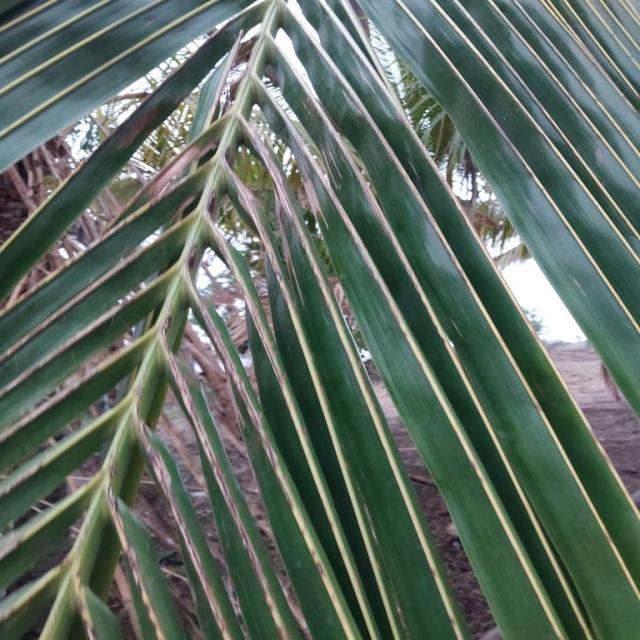gray leaf spot: (99, 24, 318, 594)
